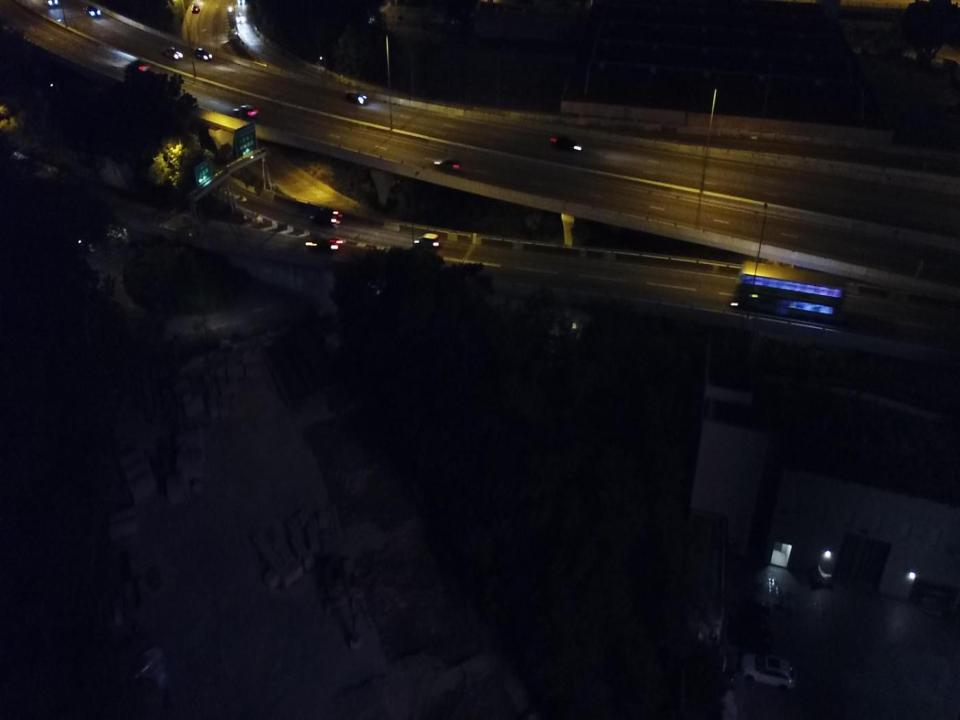bus: (732, 263, 844, 326)
car: (744, 654, 798, 693), (552, 134, 582, 152), (307, 239, 342, 253), (414, 232, 440, 250), (433, 157, 460, 171), (232, 102, 257, 115), (126, 58, 150, 70), (194, 47, 213, 60), (163, 46, 181, 59), (345, 92, 366, 103), (86, 4, 100, 16), (236, 11, 245, 23), (192, 4, 202, 12)
van: (312, 209, 342, 226)
